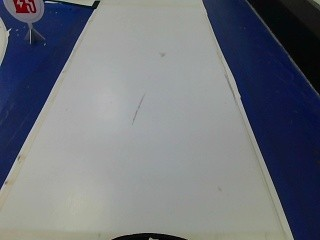battery: (0, 0, 41, 20)
